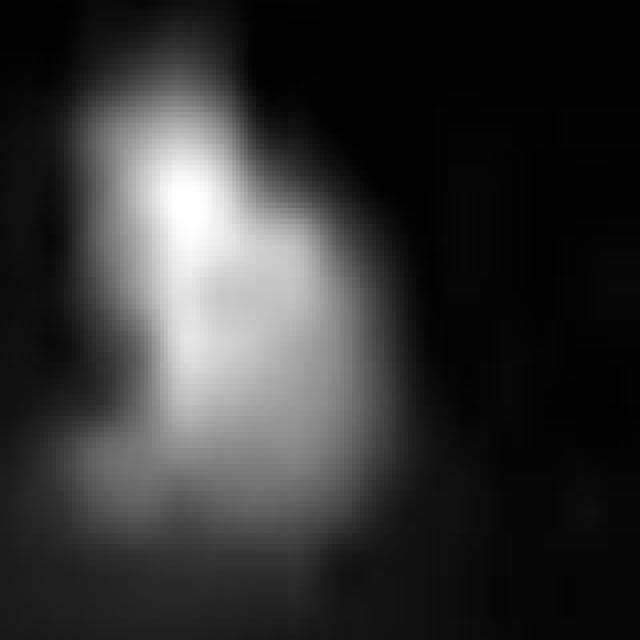person: (77, 25, 395, 605)
